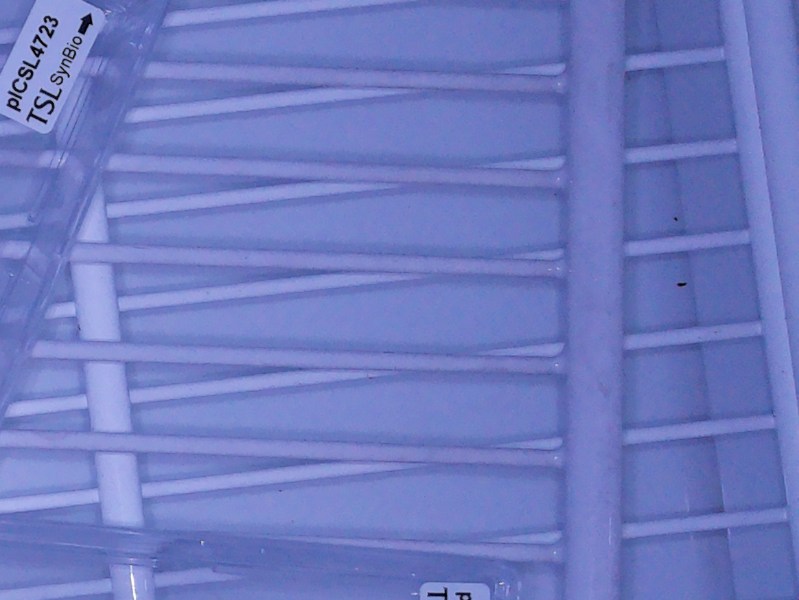plate: (1, 1, 167, 412), (1, 514, 520, 600)
